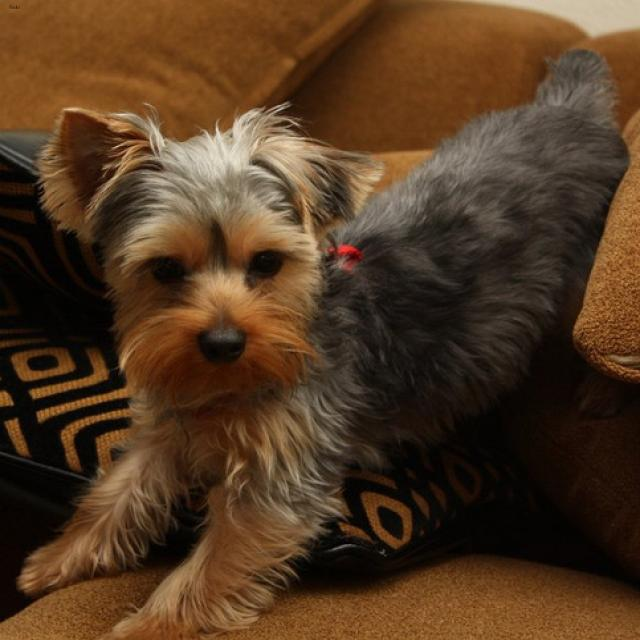dog: (60, 106, 376, 383)
